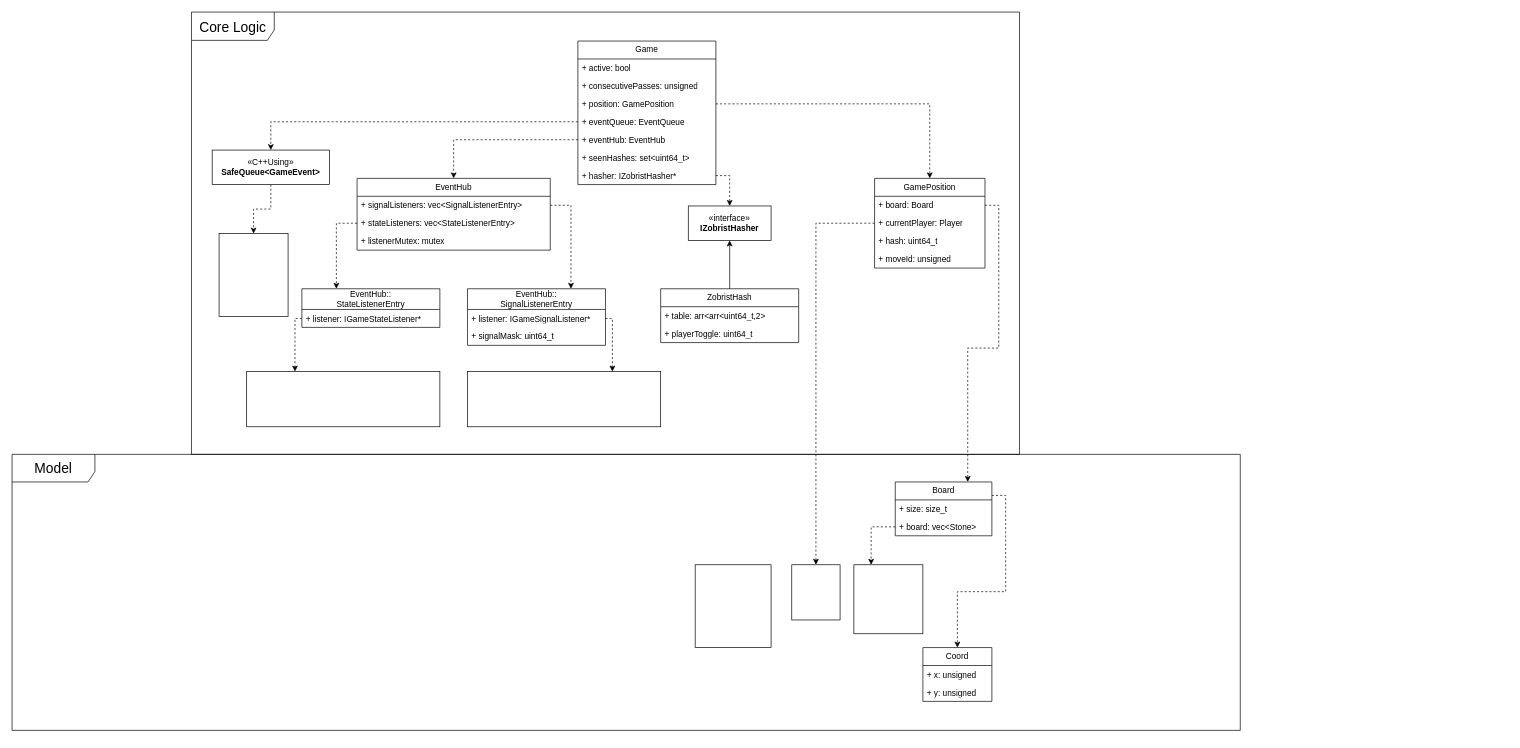
Image size: 1520x748. Some labels were removed from this diagram. Here are the shapes that lost their labels. From the top down, the centre of each, then its label:
[253,274]: <<Variant>> GameEvent PutStoneEvent PassEvent ResignEvent ShutdownEvent
[343,399]: <<Interface>> IGameStateListener + onGameDelta(const GameDelta&) = 0: void
[564,399]: <<Interface>> IGameSignalListener + onGameEvent(GameSignal) = 0: void
[732,606]: <<Enum>> GameStatus Idle Ready Active Done
[815,592]: <<Enum>> Player Black White
[888,599]: <<Enum>> Board::Stone Empty Black White
